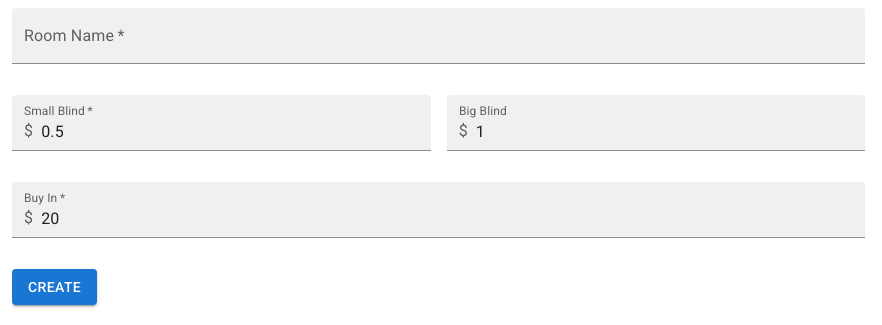
Test: renders error message and disables create button for invalid; no error message and enabled create button for valid › name
Type " ! $ %" into the field labelled "Room Name" at (439,36), box x1=12 y1=8 x2=865 y2=64
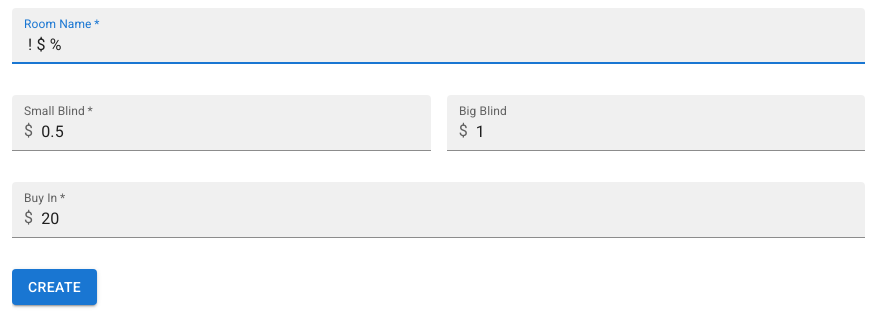
Click the field labelled "Big Blind" at (671,123), box x1=476 y1=95 x2=865 y2=151
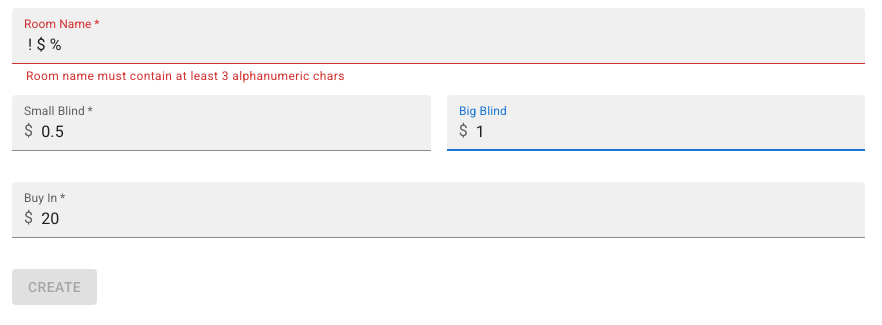
Now the button "Create" is disabled, box x1=12 y1=269 x2=97 y2=305
Replace the text in the field labelled "Room Name" with "myfirstroom" at (439,36), box x1=12 y1=8 x2=865 y2=64
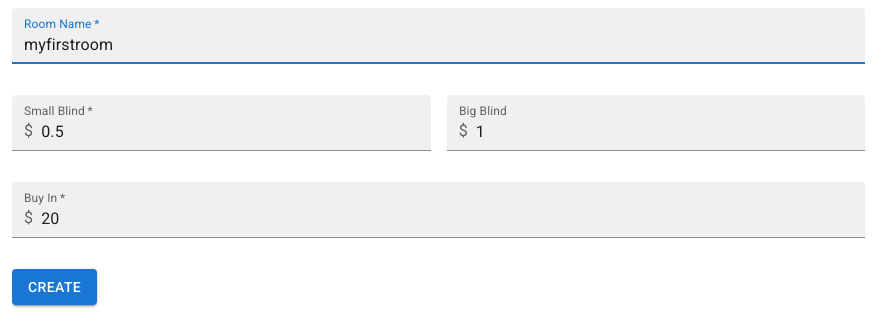
Now the button "Create" is enabled, box x1=12 y1=269 x2=97 y2=305
